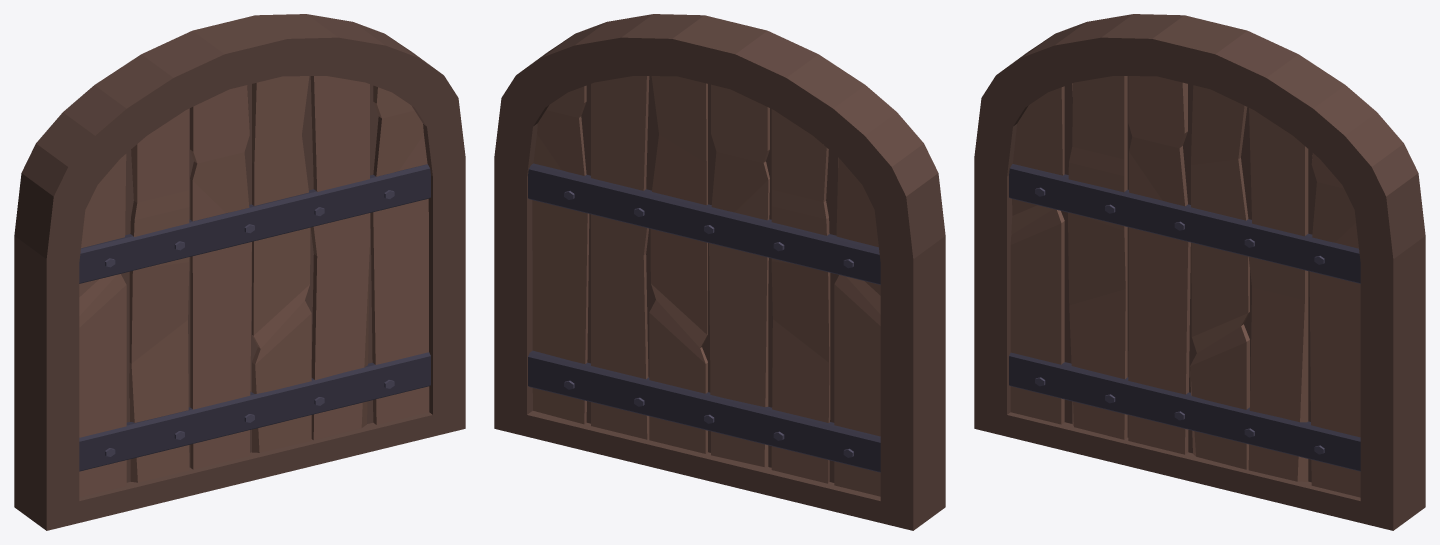
Rendered from Wall-Arch-Door.fbx.
3 views of the same model, side by side, from view 1: azimuth 30°, elevation 25°; view 2: azimuth 150°, elevation 25°; view 3: azimuth 330°, elevation 25° (orthographic).
Visible parts, largest first — view 1: Arch_Door; view 2: Arch_Door; view 3: Arch_Door.
Part boxes in pixels (x1,y1,x2,y2): Arch_Door: [14, 14, 465, 530]; Arch_Door: [494, 14, 945, 530]; Arch_Door: [974, 14, 1425, 530].
Size of the model in its own units: 484 by 479 by 65.92.
